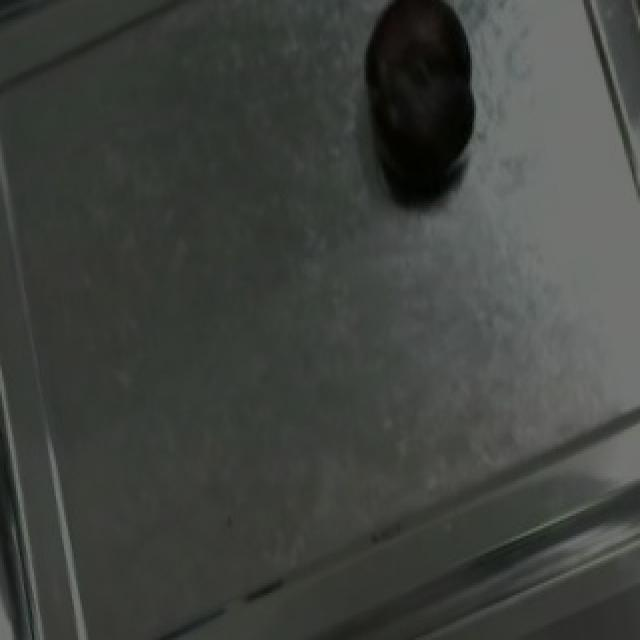Fruit: (344, 0, 494, 201)
